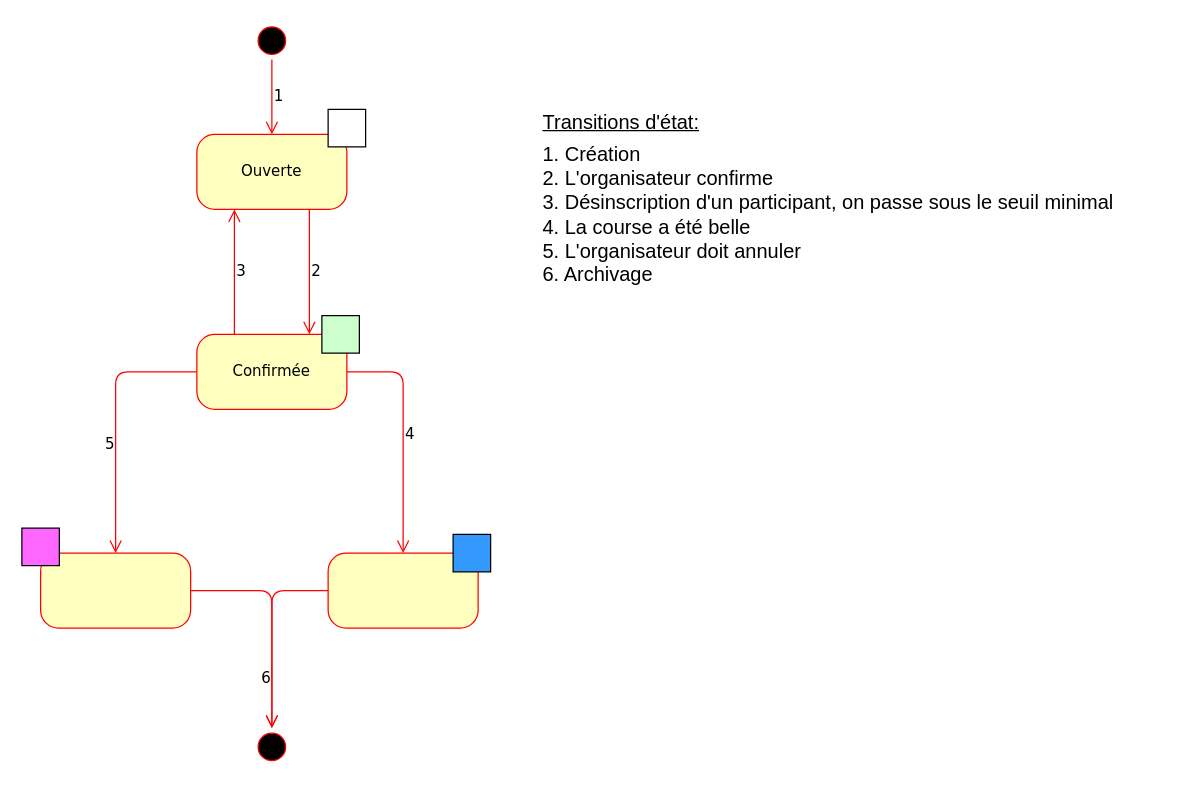
Some shapes in this 1188 by 788 pixel diagram are drawn without their labels. The box of each missing label's shape, as (x1, y1, x2, y2) in pixels:
Annulée: (39, 552, 191, 628)
Effectuée: (327, 552, 478, 628)
